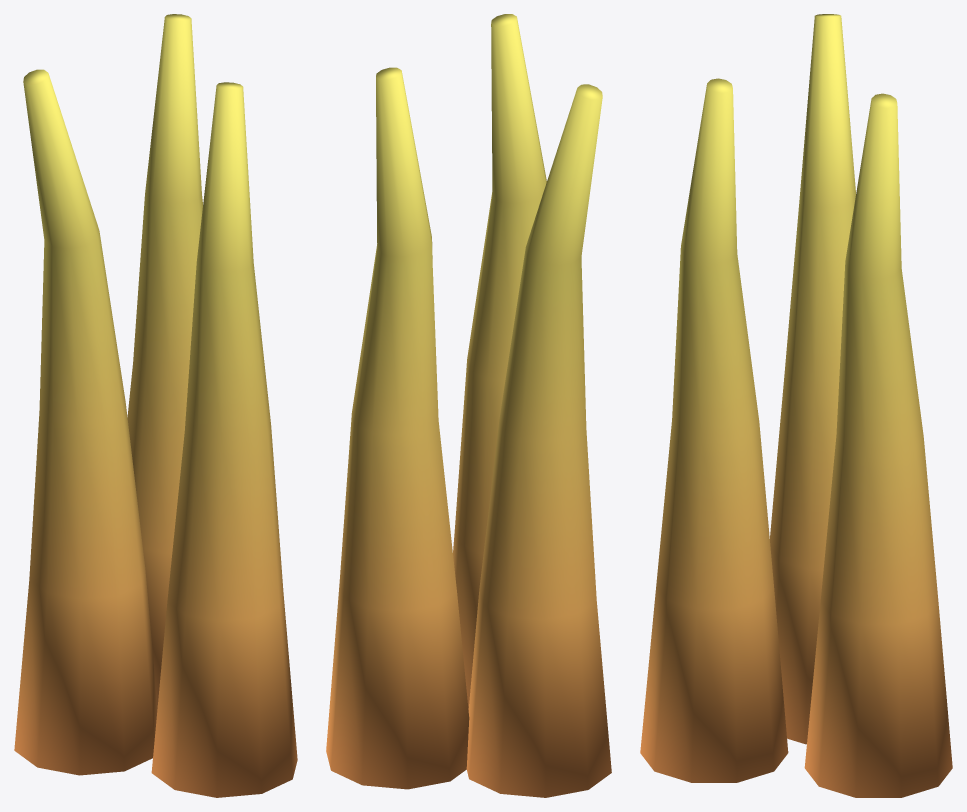
The model's file is Grass005.fbx.
The picture shows the model from 3 angles, left to right: view 1: azimuth 30°, elevation 25°; view 2: azimuth 150°, elevation 25°; view 3: azimuth 270°, elevation 25°; orthographic projection.
Visible parts, largest first — view 1: Grass005; view 2: Grass005; view 3: Grass005.
Boxes of the visible parts, <box> form: Grass005: <box>14,14,297,797</box>; Grass005: <box>326,14,611,797</box>; Grass005: <box>640,14,952,797</box>.
Bounding box in the file's own units: 39.96 × 111 × 46.49.
